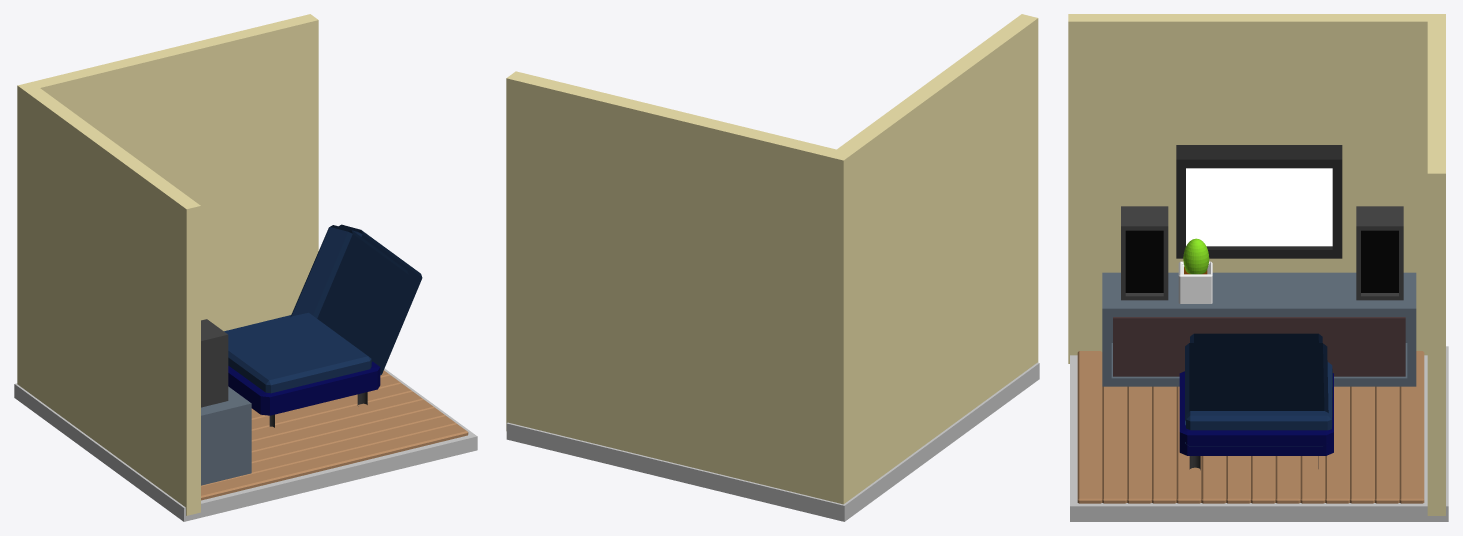
The picture shows the model from 3 angles, left to right: view 1: azimuth 30°, elevation 25°; view 2: azimuth 150°, elevation 25°; view 3: azimuth 270°, elevation 25°; orthographic projection. The views are drawn at different scales.
Visible parts, largest first — view 1: Cube_6, Plane001_8, Cube009_10, Plane_7, Cube008_11, Cube002_3, Cube006_12, Cube003_15, Cube005_13; view 2: Cube_6, Plane_7; view 3: Cube_6, Plane001_8, Cube002_3, Cube001_16, Cube005_13, Plane_7, Cube011_14, Cube003_15, Cube006_12, Cube008_11, Cube009_10, Cube010_5 (+1 smaller).
Boxes of the visible parts, x1=… form: Cube_6: x1=17, y1=14, x2=318, y2=515; Plane001_8: x1=201, y1=370, x2=468, y2=500; Cube009_10: x1=290, y1=225, x2=408, y2=362; Plane_7: x1=14, y1=368, x2=477, y2=521; Cube008_11: x1=224, y1=312, x2=371, y2=393; Cube002_3: x1=201, y1=386, x2=251, y2=485; Cube006_12: x1=228, y1=361, x2=380, y2=415; Cube003_15: x1=201, y1=319, x2=228, y2=407; Cube005_13: x1=339, y1=224, x2=422, y2=375; Cube_6: x1=506, y1=14, x2=1038, y2=504; Plane_7: x1=506, y1=362, x2=1039, y2=521; Cube_6: x1=1068, y1=14, x2=1445, y2=515; Plane001_8: x1=1077, y1=351, x2=1424, y2=503; Cube002_3: x1=1102, y1=272, x2=1416, y2=386; Cube001_16: x1=1176, y1=145, x2=1342, y2=258; Cube005_13: x1=1185, y1=343, x2=1328, y2=446; Plane_7: x1=1070, y1=346, x2=1448, y2=521; Cube011_14: x1=1356, y1=206, x2=1403, y2=300; Cube003_15: x1=1121, y1=206, x2=1168, y2=300; Cube006_12: x1=1179, y1=371, x2=1333, y2=455; Cube008_11: x1=1186, y1=362, x2=1332, y2=430; Cube009_10: x1=1190, y1=333, x2=1322, y2=342; Cube010_5: x1=1178, y1=261, x2=1212, y2=303.
Bounding box in the file's own units: 8.83 × 8.95 × 8.83.
